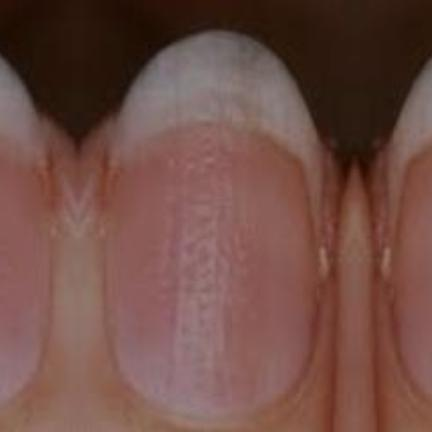Nail: (103, 30, 323, 420), (0, 54, 51, 403), (386, 55, 432, 404)
